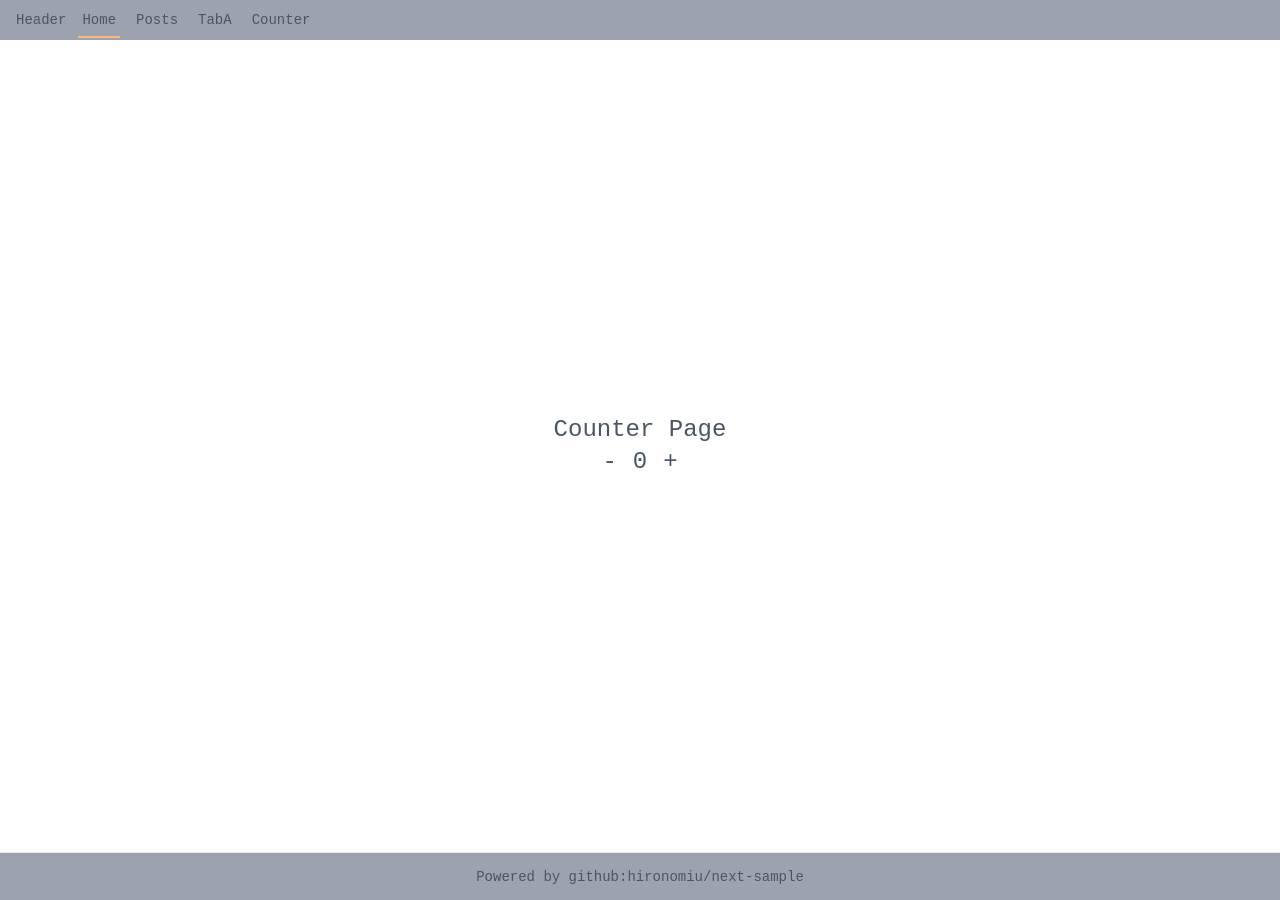
Counter › increment
Check: the text with test id "counter" reads "0", box [633,448,647,475]
Click the button with test id "increment-button". click: (670, 462)
box: [663,446,678,478]
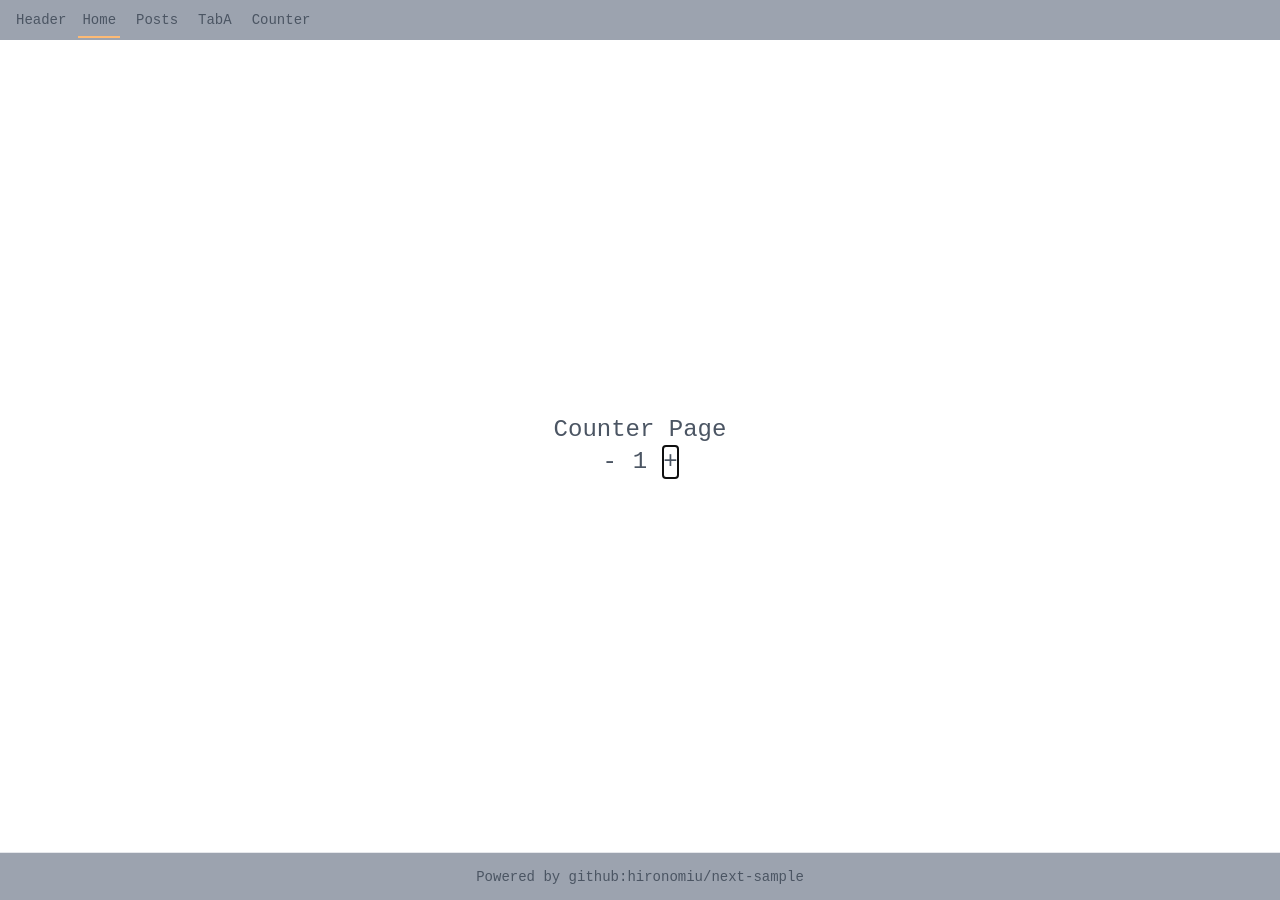
Check: the text with test id "counter" reads "1", box [633,448,647,475]
